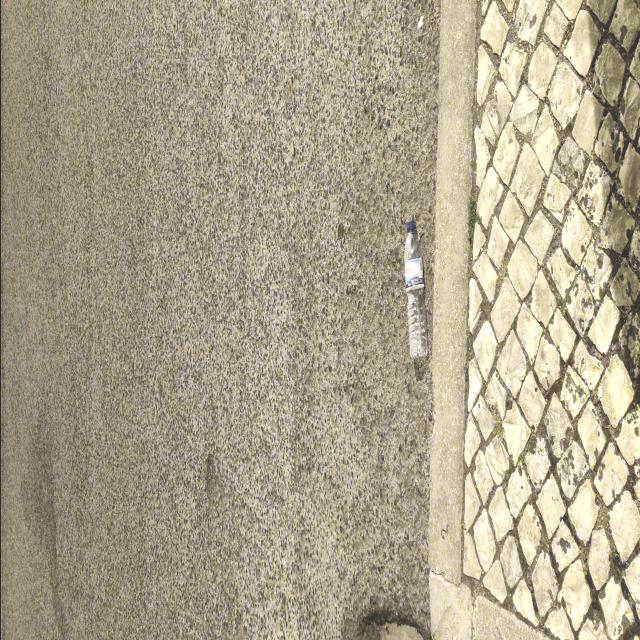Clear plastic bottle: (403, 220, 427, 359)
Plastic bottle cap: (405, 220, 415, 227)
